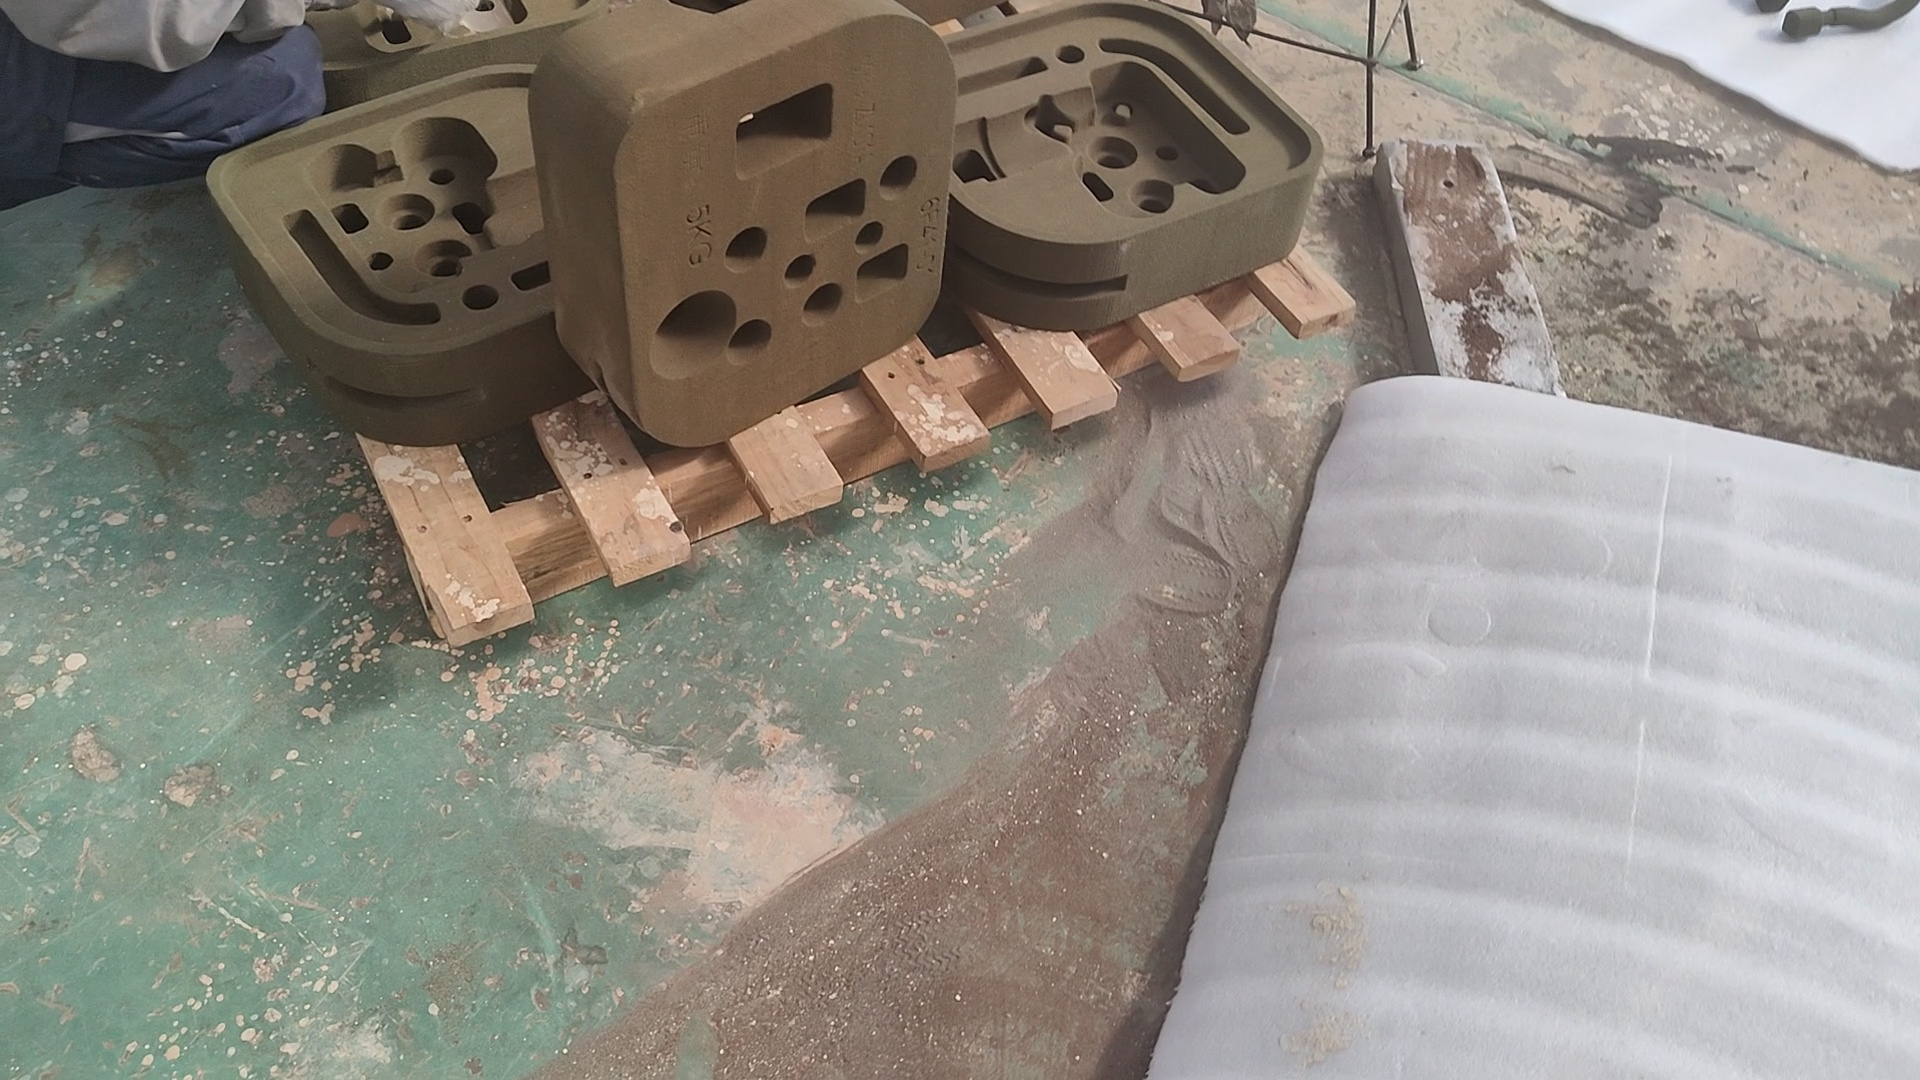pouring hole: (649, 291, 736, 377)
